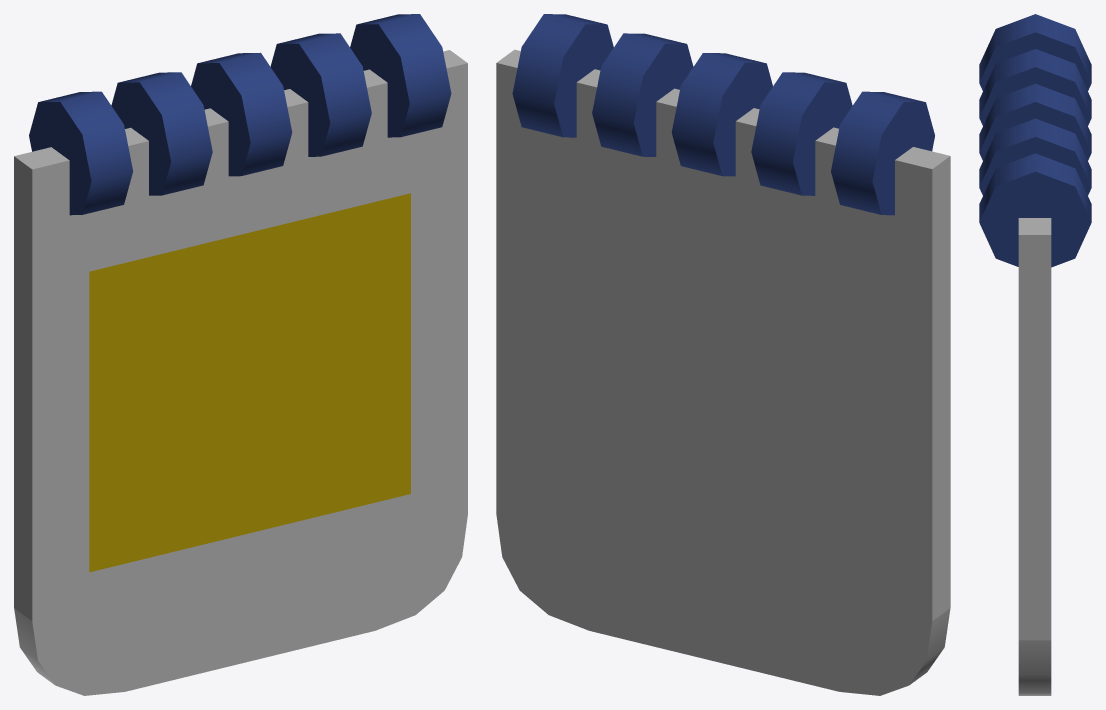
File: gadget_notebook_01.fbx
3 views of the same model, side by side, from view 1: azimuth 30°, elevation 25°; view 2: azimuth 150°, elevation 25°; view 3: azimuth 270°, elevation 25° (orthographic). The views are drawn at different scales.
Parts seen in each view (by area): view 1: gadget_notebook_01; view 2: gadget_notebook_01; view 3: gadget_notebook_01.
Boxes of the visible parts, x1=… form: gadget_notebook_01: x1=14, y1=14, x2=467, y2=695; gadget_notebook_01: x1=496, y1=14, x2=950, y2=695; gadget_notebook_01: x1=979, y1=14, x2=1091, y2=695.
Size of the model in its own units: 33.82 by 44.27 by 8.43.
